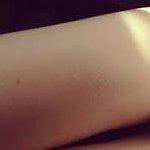Goosebumps: (0, 9, 149, 149)
